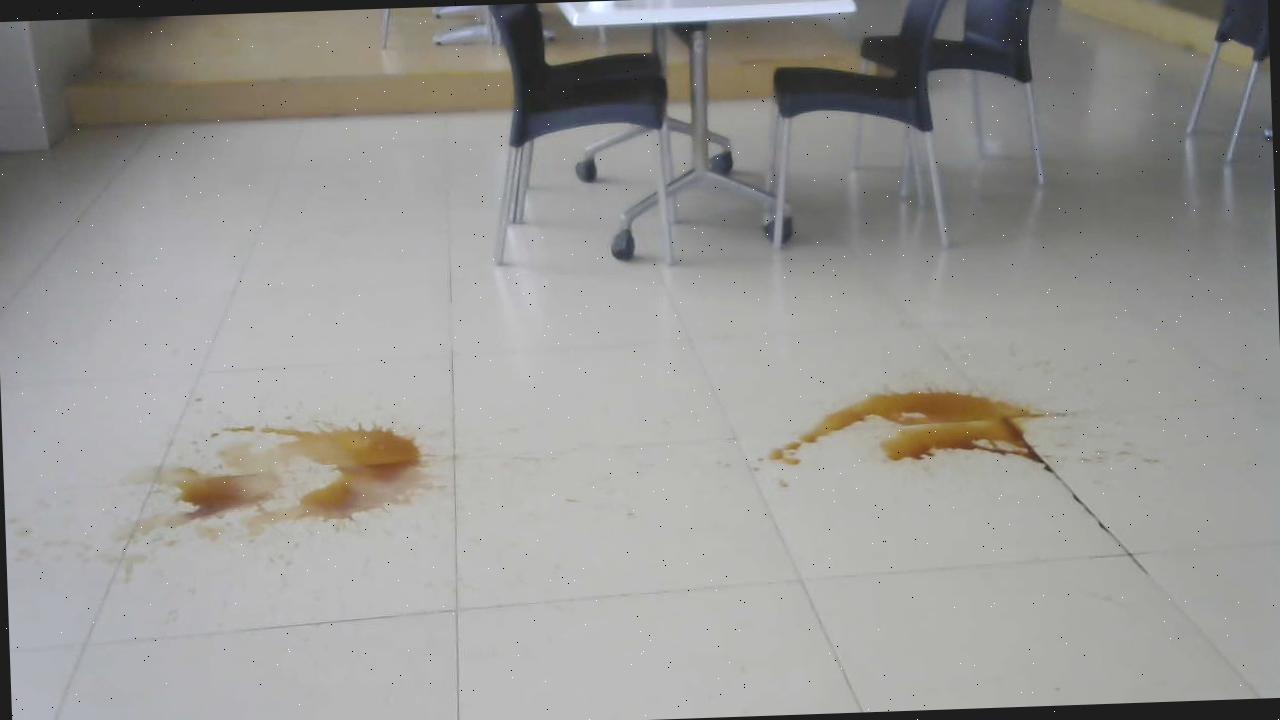dirty_floor: (726, 367, 1132, 509), (120, 399, 436, 572)
